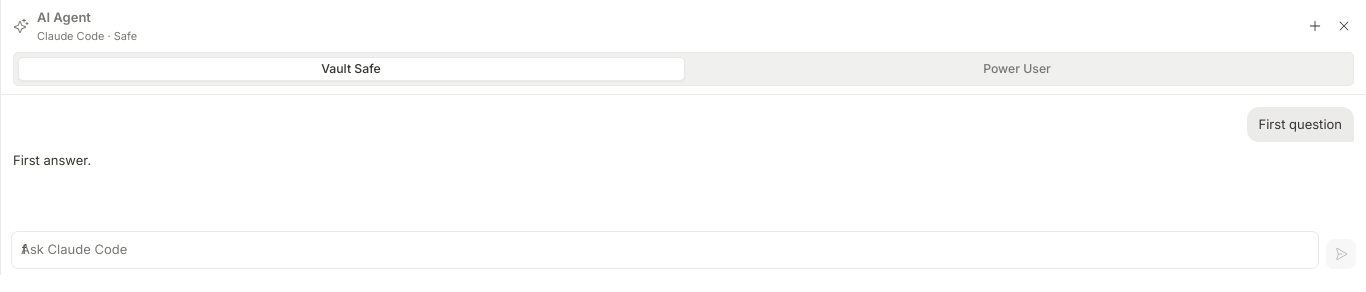
Test: AiPanel › does not steal composer focus after a response when the send button becomes enabled
Clear the text box with test id "agent-input" at [665, 250], box [11,231,1319,268]
Wait 1 ms
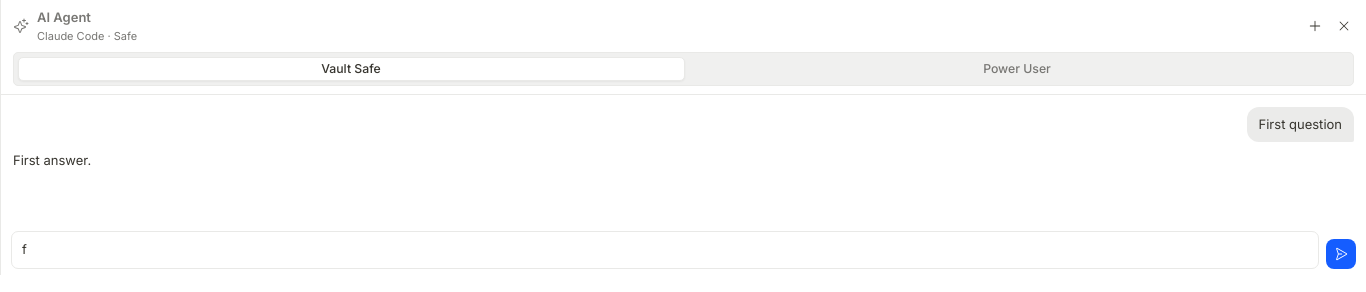
Result: the button with test id "agent-send" is enabled at [1326,238,1356,268]
